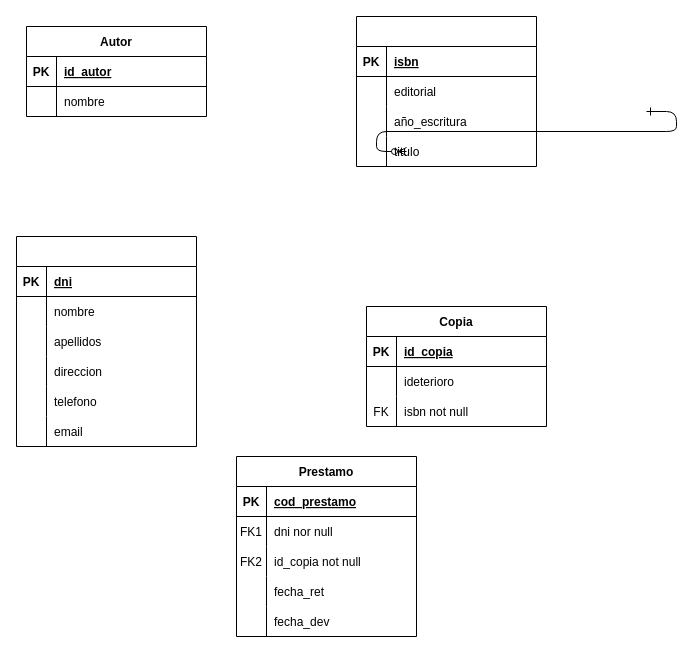
Image size: 693x653. Some labels were removed from this diagram. Each missing label, with the box of its shape:
Libro: (356, 16, 536, 166)
persona: (16, 236, 196, 446)
